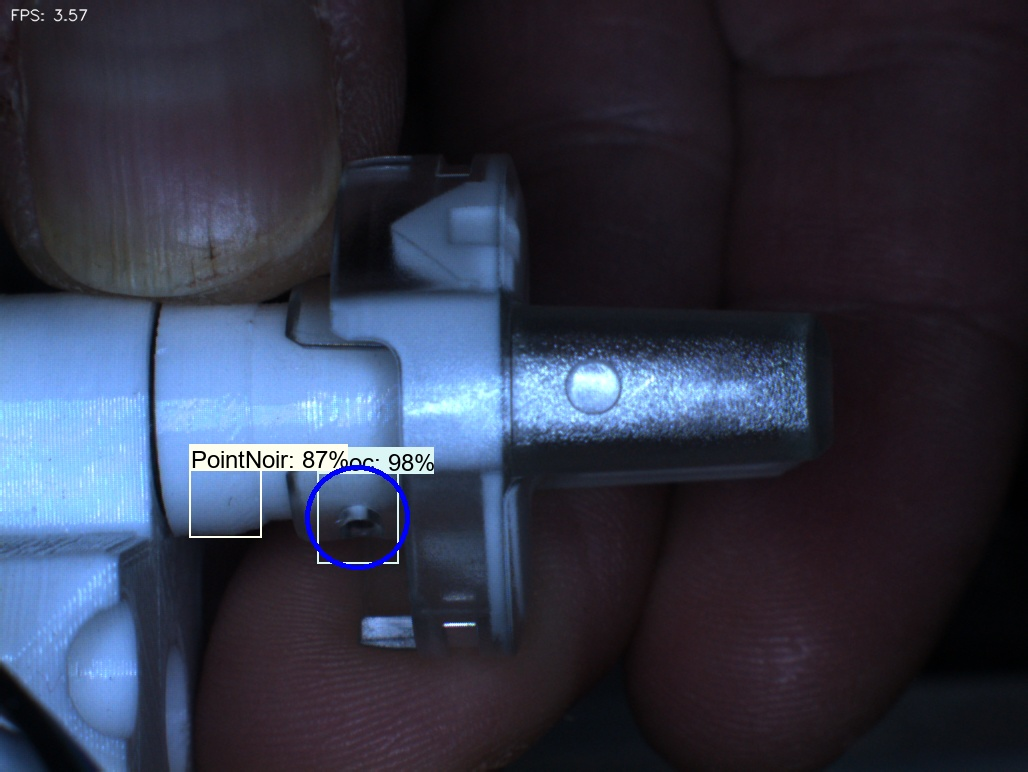DentOk: (358, 192, 437, 283)
